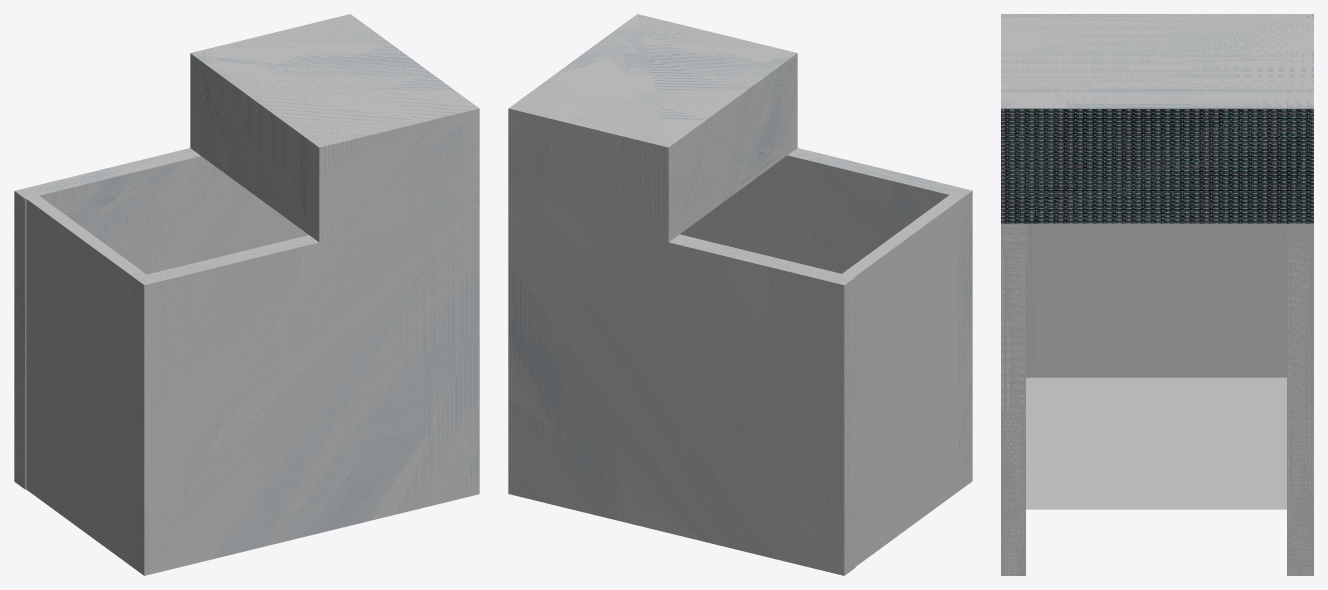
The model's file is troueFinal.dae.
The picture shows the model from 3 angles, left to right: view 1: azimuth 30°, elevation 25°; view 2: azimuth 150°, elevation 25°; view 3: azimuth 270°, elevation 25°; orthographic projection. The views are drawn at different scales.
Visible parts, largest first — view 1: troueFin (×2); view 2: troueFin (×2); view 3: troueFin (×3).
Part boxes in pixels (x1,y1,x2,y2): troueFin (×2): (14, 14, 479, 575); troueFin (×2): (508, 14, 972, 575); troueFin (×3): (1001, 14, 1313, 575).
Size of the model in its own units: 291 by 193 by 319.
